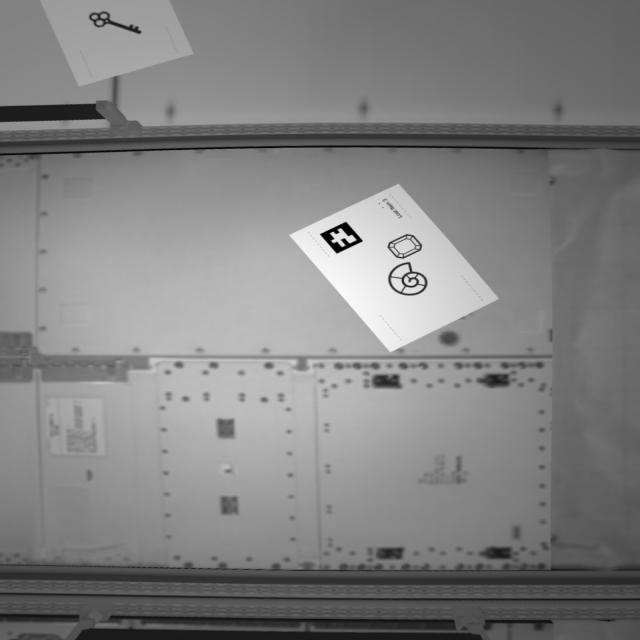emerald: (385, 236, 430, 259)
fossil: (385, 261, 436, 298)
key: (72, 6, 155, 43)
